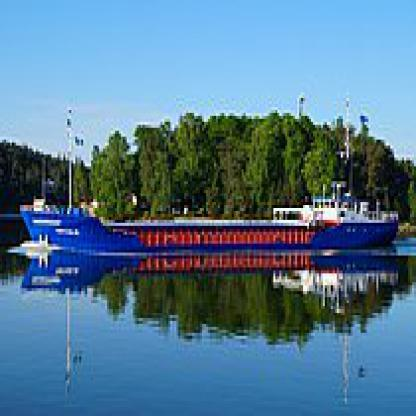Container Ship: (16, 102, 399, 253)
